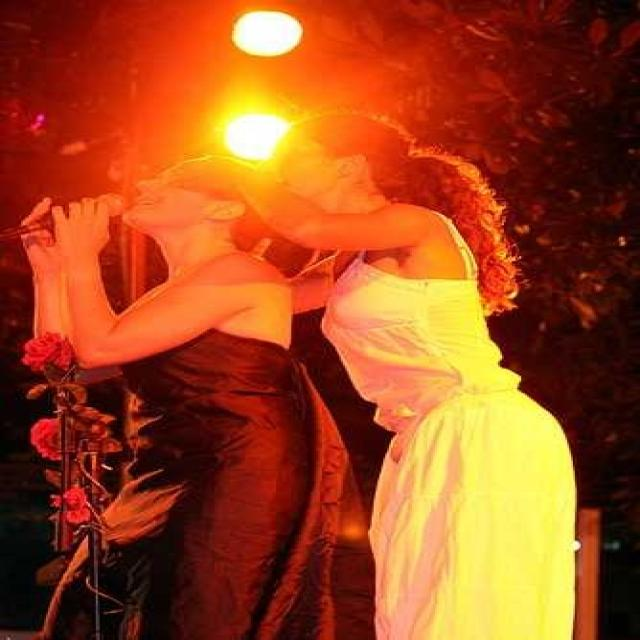microphone: (3, 185, 145, 254)
